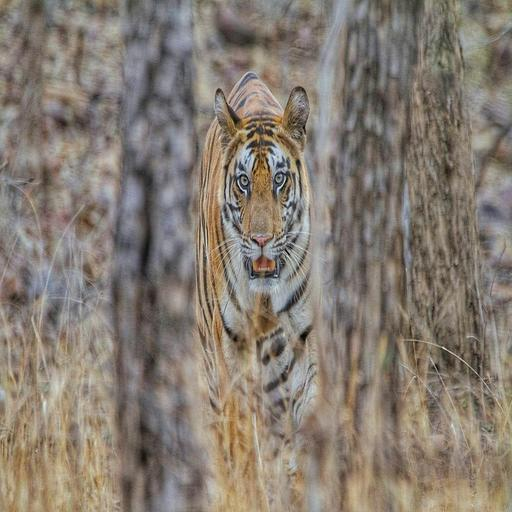Tiger: (169, 53, 360, 512)
